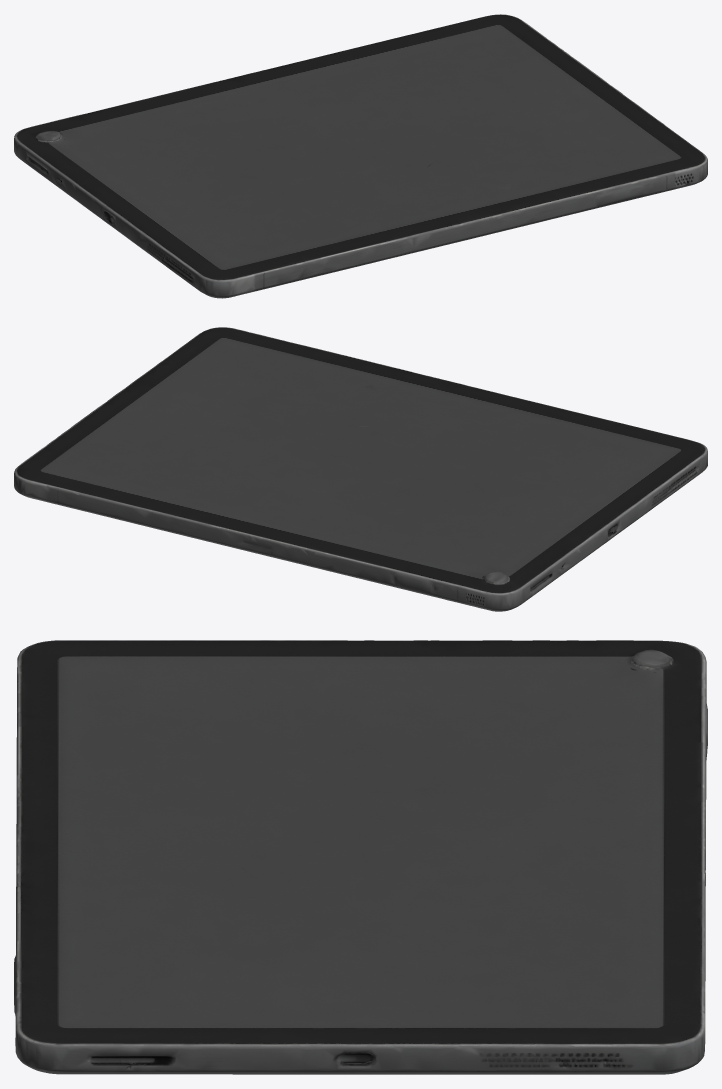
File: Meshy_AI_Crea_una_tablet_negra_0213175041_texture.fbx
3 renders of one model, top to bottom at view 1: azimuth 30°, elevation 25°; view 2: azimuth 150°, elevation 25°; view 3: azimuth 270°, elevation 25°, orthographic. The views are drawn at different scales.
Visible parts, largest first — view 1: Mesh_0; view 2: Mesh_0; view 3: Mesh_0.
Part boxes in pixels (left/top/right/bottom): Mesh_0: left=14, top=14, right=707, bottom=298; Mesh_0: left=14, top=327, right=707, bottom=611; Mesh_0: left=14, top=640, right=707, bottom=1074.
Size of the model in its own units: 200 by 9.78 by 144.
Materials: 1 (1 with a texture image).
